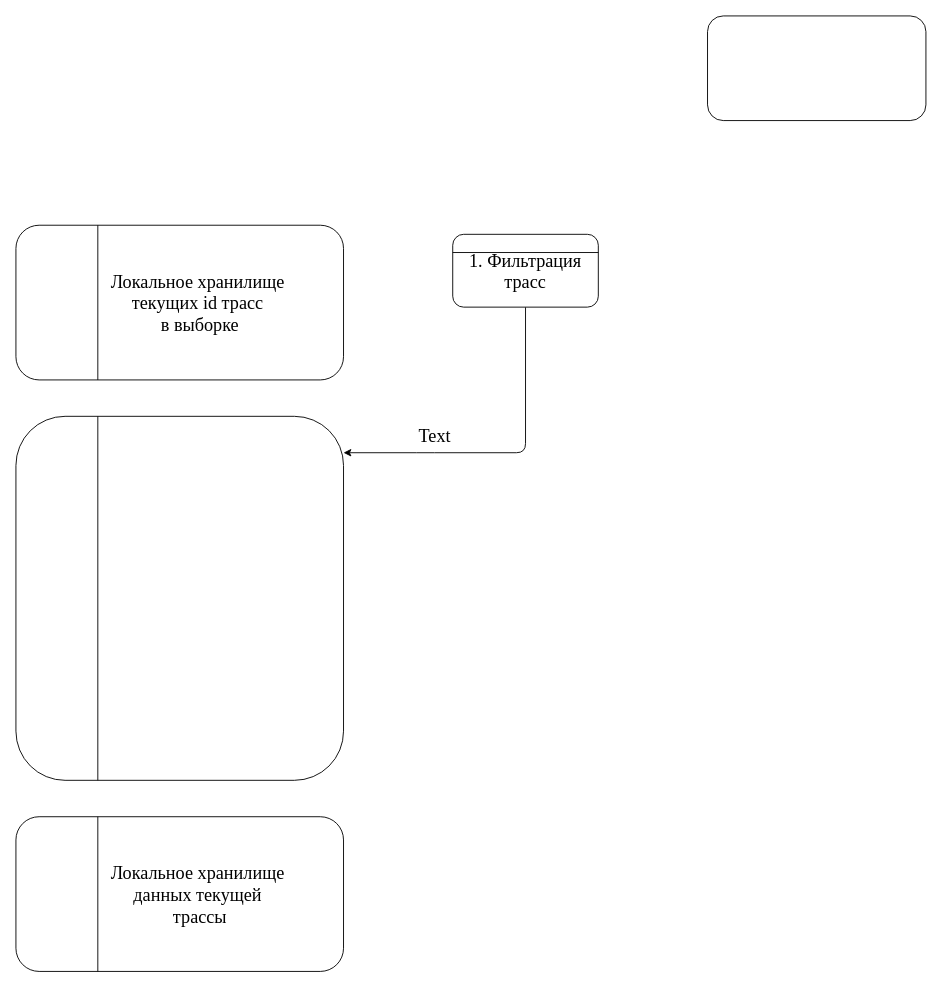
Some shapes in this 942 by 988 pixel diagram are drawn without their labels. The centre of each missing label's shape, as x and y in pixels:
База данных: (179,597)
Пользователь: (816,68)
